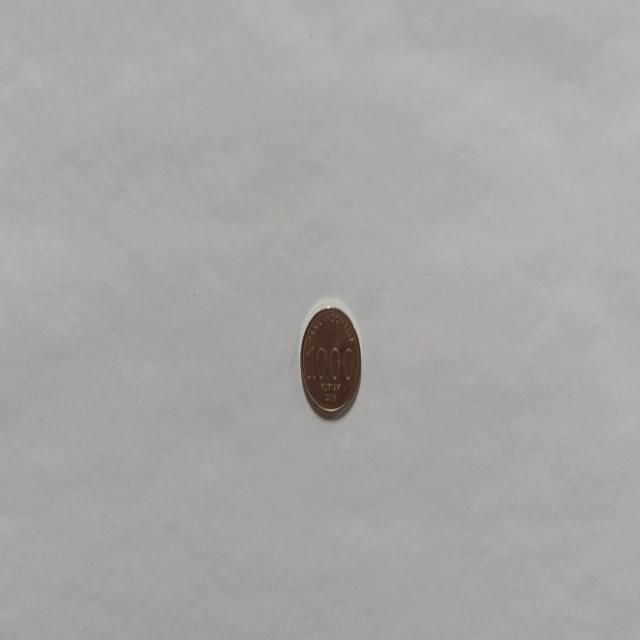seribu rupiah koin: (298, 300, 362, 420)
